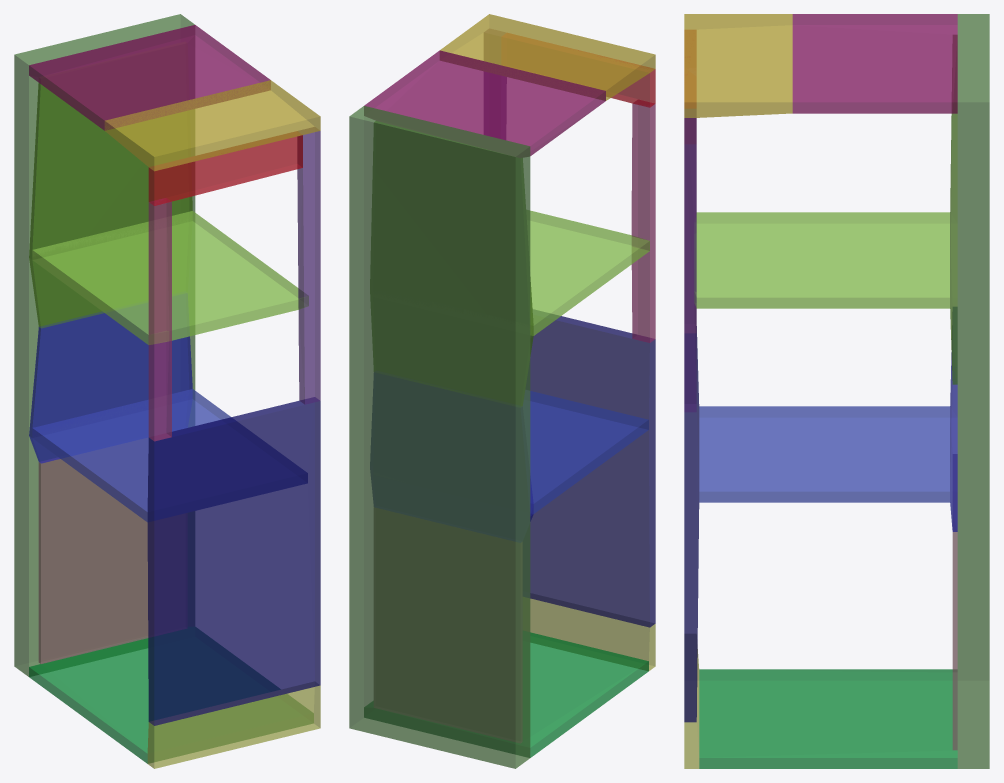
File: SinkArea.obj
3 renders of one model, left to right at view 1: azimuth 30°, elevation 25°; view 2: azimuth 150°, elevation 25°; view 3: azimuth 270°, elevation 25°, orthographic. The views are drawn at different scales.
Parts seen in each view (by area): view 1: Shape_IndexedFaceSet.007_Shape_IndexedFaceSet.077; view 2: Shape_IndexedFaceSet.007_Shape_IndexedFaceSet.077; view 3: Shape_IndexedFaceSet.007_Shape_IndexedFaceSet.077.
Boxes of the visible parts, x1,y1,x2,y2 form: Shape_IndexedFaceSet.007_Shape_IndexedFaceSet.077: [14, 14, 320, 768]; Shape_IndexedFaceSet.007_Shape_IndexedFaceSet.077: [349, 14, 655, 768]; Shape_IndexedFaceSet.007_Shape_IndexedFaceSet.077: [684, 14, 989, 768].
Bounding box in the file's own units: 0.5876 × 2.07 × 0.8572.
